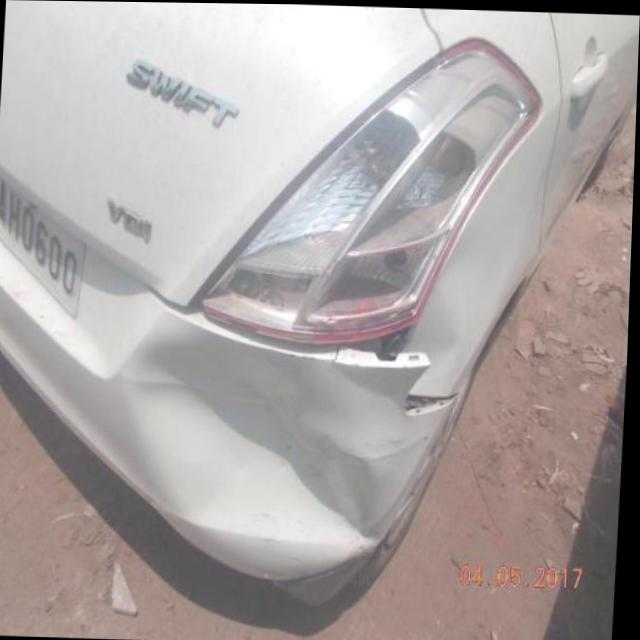Car-Damage: (107, 307, 390, 557), (317, 319, 433, 368)
